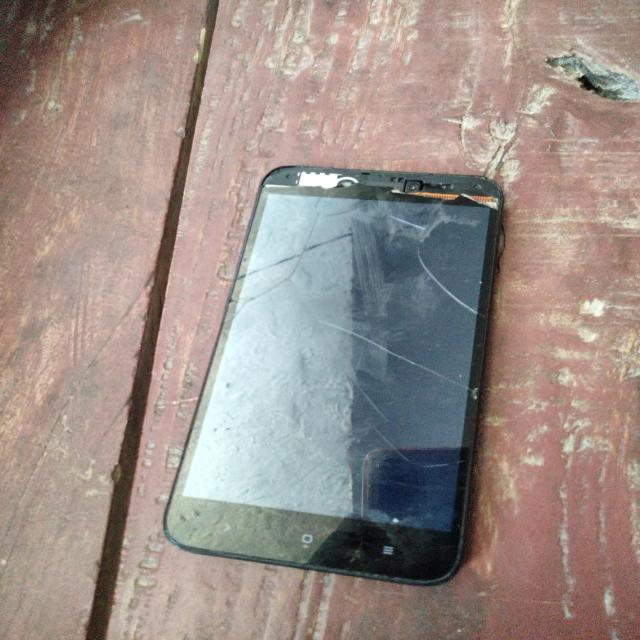mobile: (122, 127, 580, 608)
